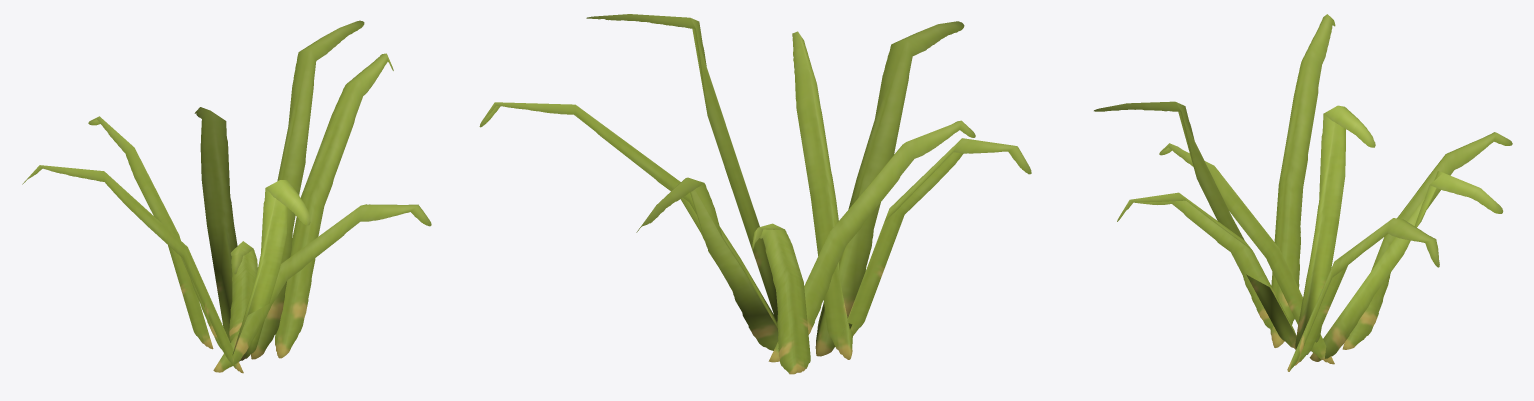
File: coolGrass.fbx
The picture shows the model from 3 angles, left to right: view 1: azimuth 30°, elevation 25°; view 2: azimuth 150°, elevation 25°; view 3: azimuth 270°, elevation 25°; orthographic projection. The views are drawn at different scales.
Visible parts, largest first — view 1: stylizedtropical01_0; view 2: stylizedtropical01_0; view 3: stylizedtropical01_0.
Part boxes in pixels (x1,y1,x2,y2): stylizedtropical01_0: (22, 20, 431, 373); stylizedtropical01_0: (479, 14, 1031, 374); stylizedtropical01_0: (1094, 14, 1512, 371).
Bounding box in the file's own units: 126 × 80.66 × 108.
